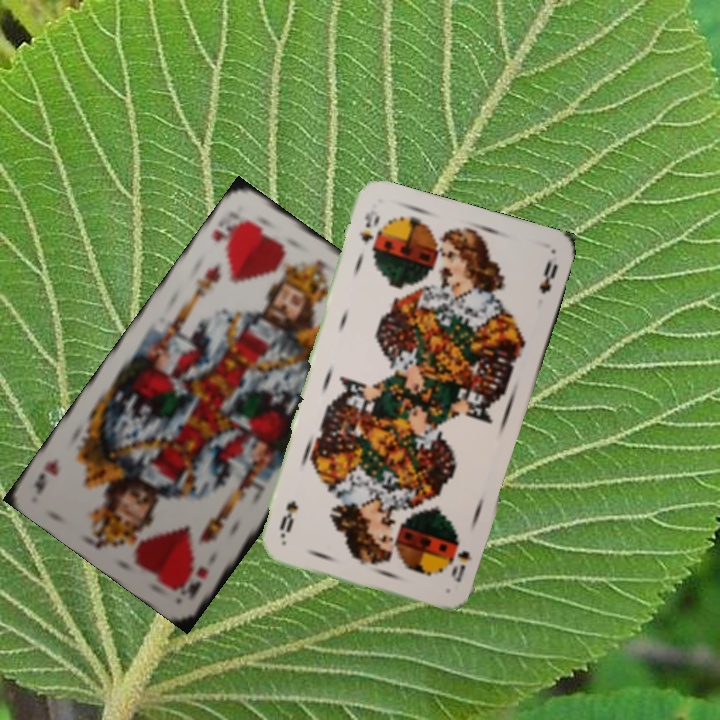HK: (207, 214, 248, 254), (183, 561, 211, 603)
SO: (355, 205, 383, 254), (447, 546, 475, 586)
